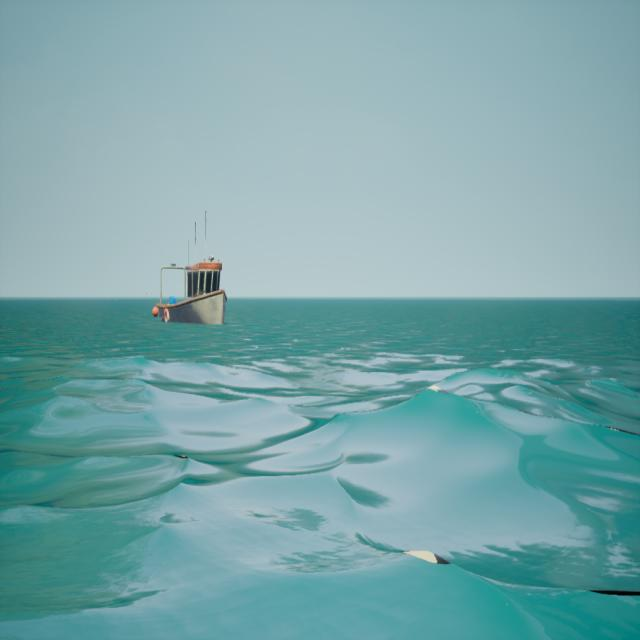ship: (151, 204, 234, 348)
